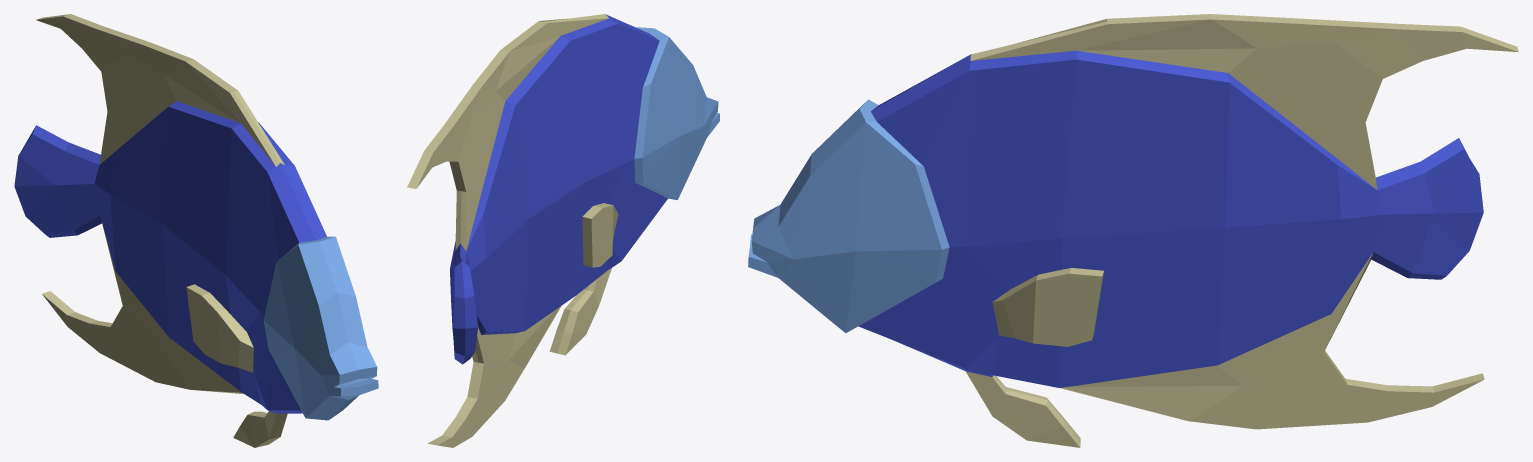
Rendered from fish2.glb.
The picture shows the model from 3 angles, left to right: view 1: azimuth 30°, elevation 25°; view 2: azimuth 150°, elevation 25°; view 3: azimuth 270°, elevation 25°; orthographic projection. The views are drawn at different scales.
Parts seen in each view (by area): view 1: Fish2_Fish; view 2: Fish2_Fish; view 3: Fish2_Fish.
Part boxes in pixels (x1=…): Fish2_Fish: x1=14, y1=14, x2=378, y2=447; Fish2_Fish: x1=407, y1=14, x2=719, y2=447; Fish2_Fish: x1=748, y1=14, x2=1518, y2=447.
Bounding box in the file's own units: 0.4372 × 1.22 × 1.99.
